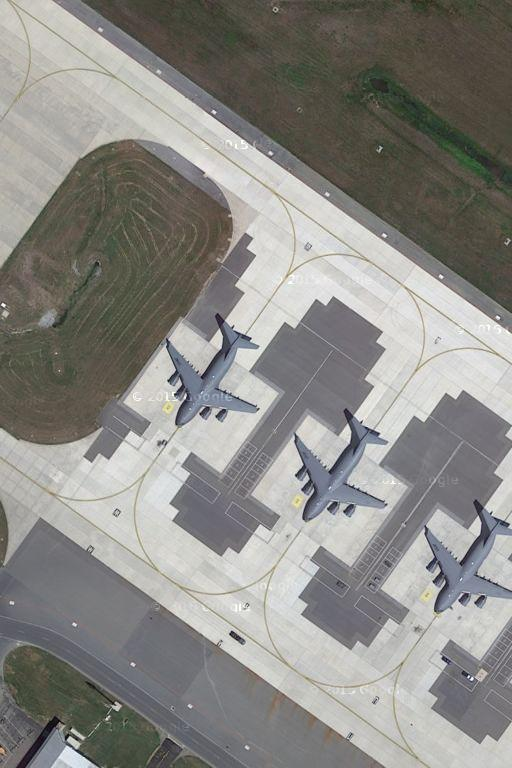C-17: (289, 408, 392, 524), (161, 315, 263, 428), (417, 497, 512, 614)
